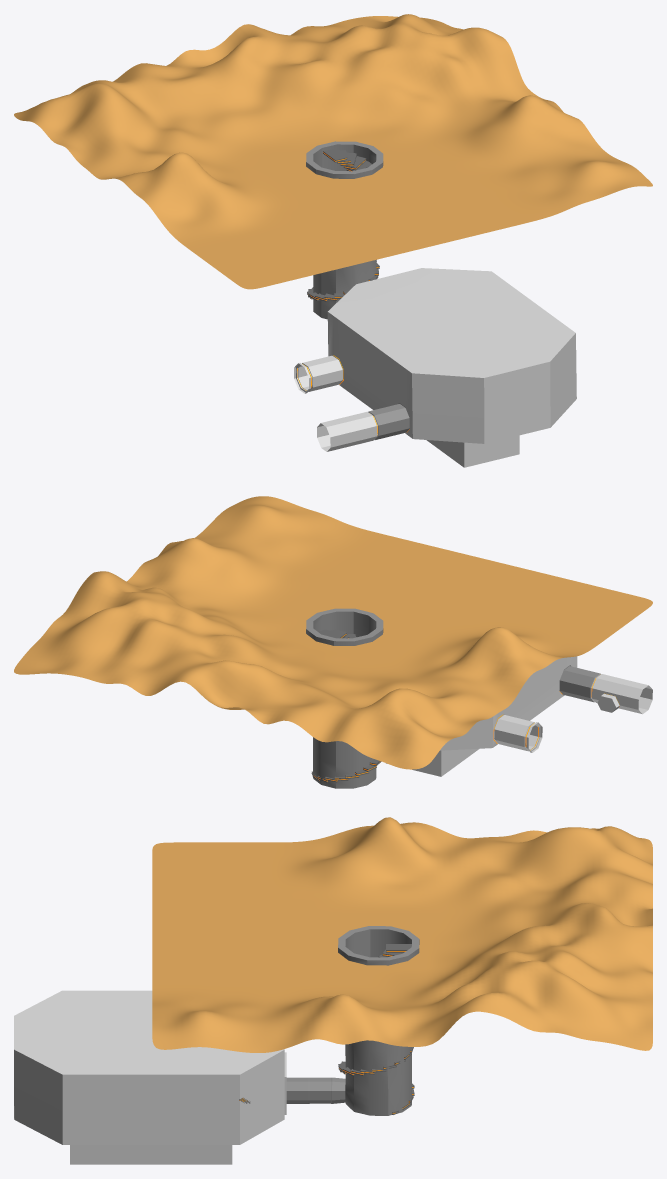
The model's file is Level2_Test.glb.
The picture shows the model from 3 angles, top to bottom: view 1: azimuth 30°, elevation 25°; view 2: azimuth 150°, elevation 25°; view 3: azimuth 270°, elevation 25°; orthographic projection. The views are drawn at different scales.
Visible parts, largest first — view 1: Terreno Desierto, Tunel bajada, Escaleras; view 2: Terreno Desierto, Tunel bajada, Escaleras; view 3: Terreno Desierto, Tunel bajada, Escaleras.
Boxes of the visible parts, x1,y1,x2,y2 form: Terreno Desierto: [14, 14, 652, 289]; Tunel bajada: [294, 141, 576, 467]; Escaleras: [307, 148, 379, 301]; Terreno Desierto: [14, 496, 652, 769]; Tunel bajada: [306, 608, 652, 788]; Escaleras: [311, 629, 381, 782]; Terreno Desierto: [152, 817, 652, 1052]; Tunel bajada: [14, 926, 419, 1164]; Escaleras: [338, 944, 414, 1114].
Bounding box in the file's own units: 40 × 22.51 × 51.05.
